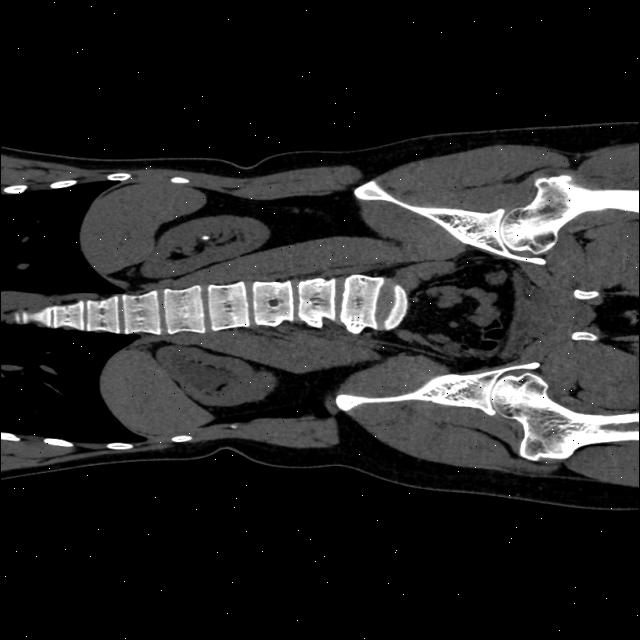kidneystone: (201, 234, 209, 240)
